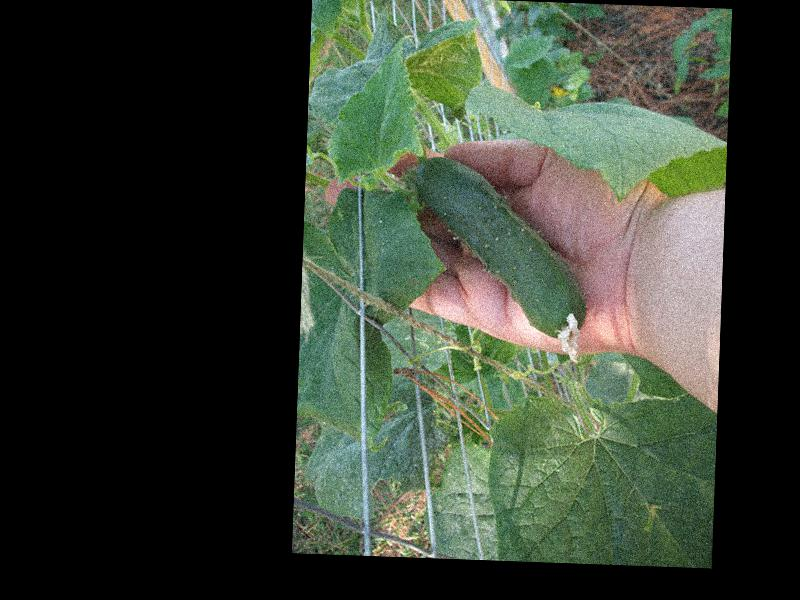Cucumber: (408, 157, 591, 364)
